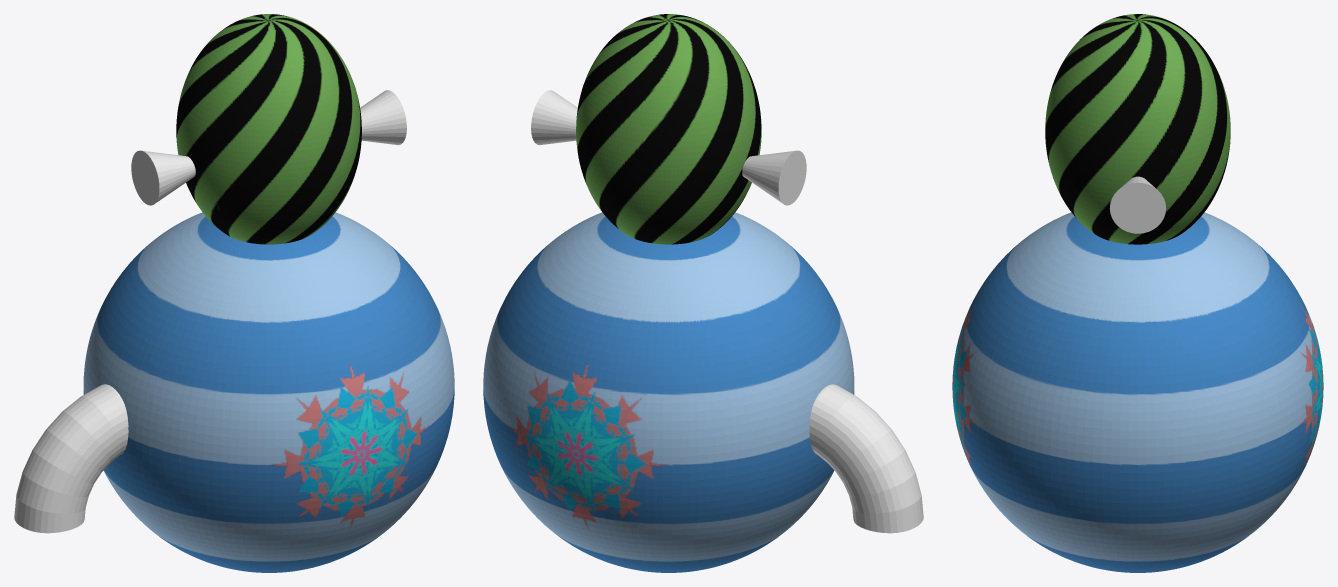
Rendered from BOD0_BMC8_BCC15_BPT1_FRC22_HEA2_HMC1_HCC7_HPT3_ELT3_ERT3_ELL1_ERL2_AP1_AAL2_AAR0_BEK0.fbx.
3 renders of one model, left to right at view 1: azimuth 30°, elevation 25°; view 2: azimuth 150°, elevation 25°; view 3: azimuth 270°, elevation 25°, orthographic.
Parts seen in each view (by area): view 1: Body, Arm, Ear, Ear.001; view 2: Body, Arm, Ear, Ear.001; view 3: Body, Ear.001.
Part boxes in pixels (left/top/right/bottom): Body: left=83, top=14, right=454, bottom=572; Arm: left=14, top=384, right=128, bottom=533; Ear: left=131, top=150, right=195, bottom=205; Ear.001: left=360, top=90, right=406, bottom=145; Body: left=483, top=14, right=854, bottom=572; Arm: left=809, top=384, right=923, bottom=533; Ear: left=742, top=150, right=806, bottom=205; Ear.001: left=531, top=90, right=577, bottom=145; Body: left=952, top=14, right=1323, bottom=572; Ear.001: left=1109, top=176, right=1166, bottom=233.
Size of the model in its own units: 62.99 by 78.65 by 49.36.
Materials: 1 (1 with a texture image).
